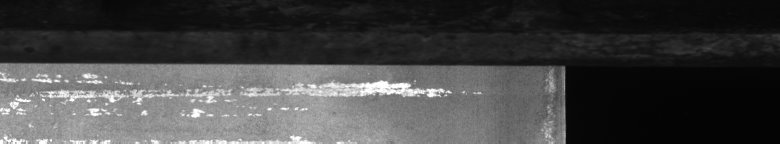kb: (4, 56, 236, 118)
